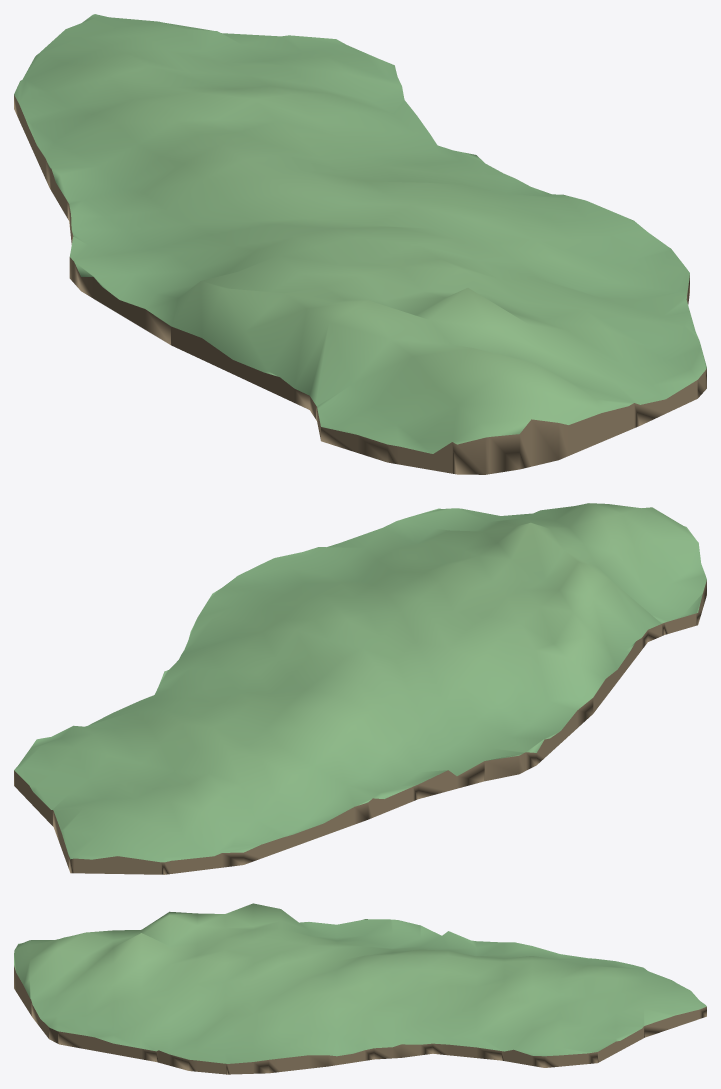
File: QAT.glb
3 renders of one model, top to bottom at view 1: azimuth 30°, elevation 25°; view 2: azimuth 150°, elevation 25°; view 3: azimuth 270°, elevation 25°, orthographic. The views are drawn at different scales.
Parts seen in each view (by area): view 1: QAT; view 2: QAT; view 3: QAT.
Part boxes in pixels (x1=…): QAT: x1=14, y1=14, x2=706, y2=474; QAT: x1=14, y1=503, x2=706, y2=874; QAT: x1=14, y1=903, x2=706, y2=1074.
Size of the model in its own units: 0.8978 by 0.1735 by 1.85.
